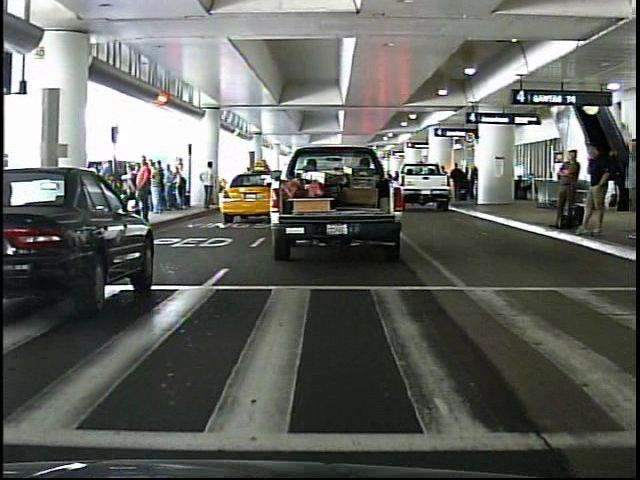person: (578, 140, 614, 239), (548, 142, 583, 238), (132, 153, 155, 220), (200, 160, 220, 213)
